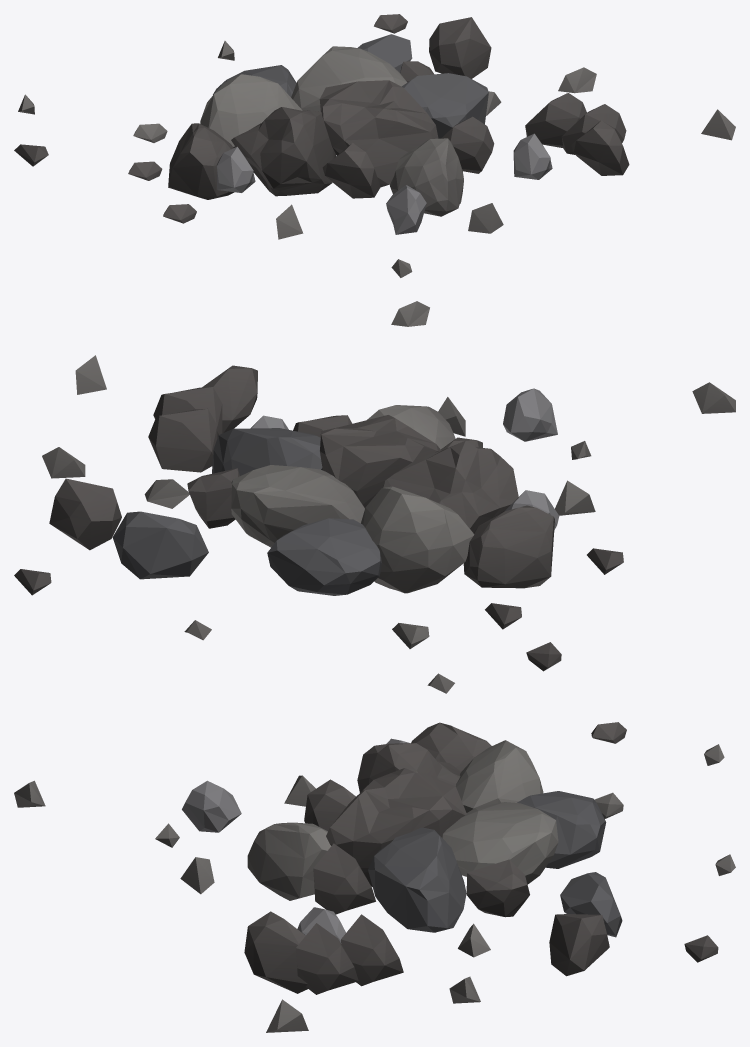
File: ZLPC_Rock_E_5.FBX
3 views of the same model, one above another, from view 1: azimuth 30°, elevation 25°; view 2: azimuth 150°, elevation 25°; view 3: azimuth 270°, elevation 25° (orthographic). The views are drawn at different scales.
Visible parts, largest first — view 1: ZLPC_Rock_E_5; view 2: ZLPC_Rock_E_5; view 3: ZLPC_Rock_E_5.
Part boxes in pixels (x1,y1,x2,y2): ZLPC_Rock_E_5: [14, 14, 735, 326]; ZLPC_Rock_E_5: [14, 355, 735, 693]; ZLPC_Rock_E_5: [14, 722, 735, 1032].
Bounding box in the file's own units: 522 × 84.64 × 527.
1 material, 1 textured.
